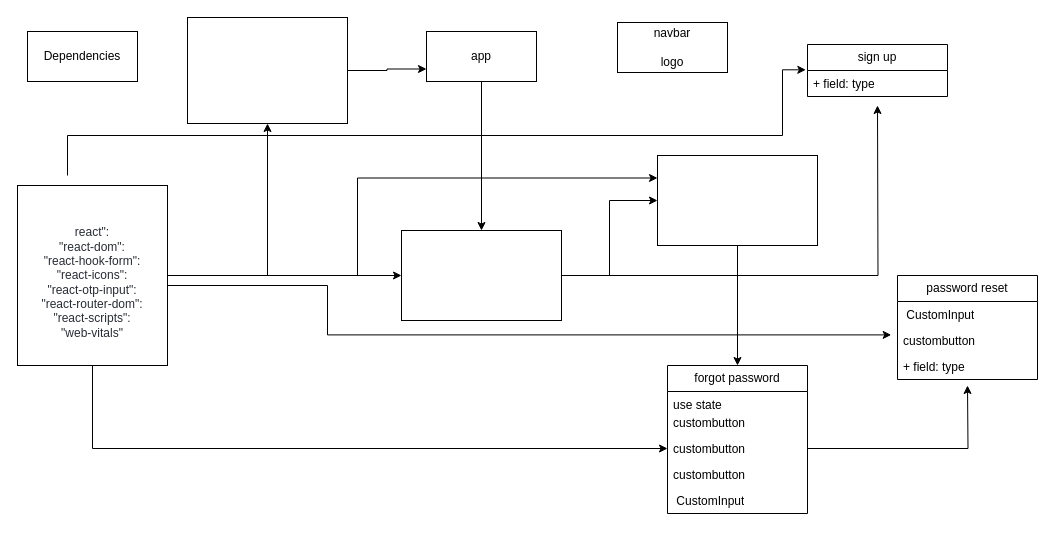
The diagram is 1055 pixels wide and 534 high, and some of its shapes have lost their labels. Each missing label, with the centre of its shape:
"index: app signin signup forgot passworfd password reset" belongs at [267,70].
"intro sign up sign in" belongs at [481,275].
"sign in login forget password" belongs at [737,200].
